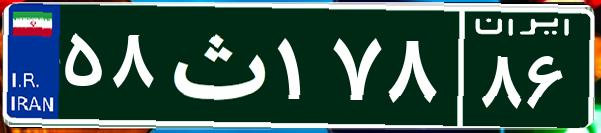1: (273, 28, 330, 110)
5: (57, 26, 110, 107)
6: (525, 38, 570, 115)
7: (330, 28, 385, 110)
8: (385, 28, 445, 110), (475, 38, 525, 113), (110, 28, 158, 105)
ث: (158, 15, 273, 115)
